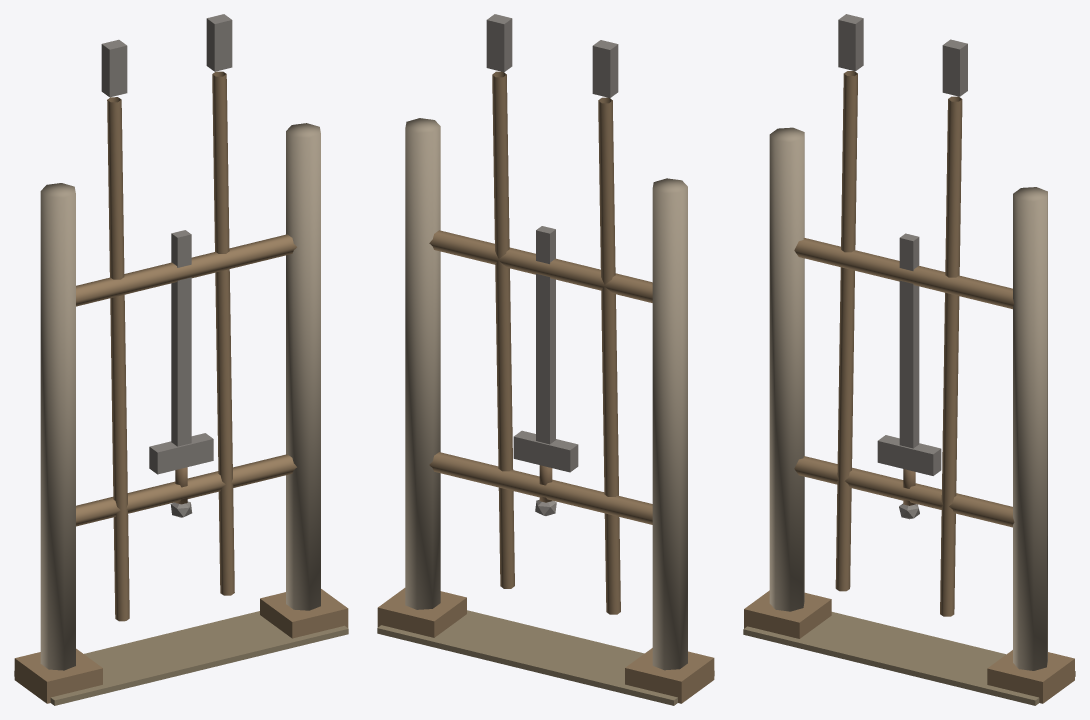
The model's file is weapon_rack.glb.
3 views of the same model, side by side, from view 1: azimuth 30°, elevation 25°; view 2: azimuth 150°, elevation 25°; view 3: azimuth 330°, elevation 25° (orthographic).
Parts seen in each view (by area): view 1: Rack_Post_0, Rack_Post_1, Rack_Mud, Spear_Shaft_0, Spear_Shaft_1, Rack_Cross_High, Sword_Blade, Rack_Cross_Low, Rack_Foot_0, Rack_Foot_1, Sword_Guard, Spear_Head_1 (+1 smaller); view 2: Rack_Post_0, Rack_Post_1, Rack_Mud, Spear_Shaft_0, Spear_Shaft_1, Rack_Cross_Low, Rack_Cross_High, Sword_Blade, Rack_Foot_0, Rack_Foot_1, Sword_Guard, Spear_Head_0 (+1 smaller); view 3: Rack_Post_0, Rack_Post_1, Rack_Mud, Spear_Shaft_0, Spear_Shaft_1, Rack_Cross_High, Sword_Blade, Rack_Cross_Low, Rack_Foot_1, Rack_Foot_0, Sword_Guard, Spear_Head_0 (+1 smaller).
Part boxes in pixels (x1,y1,x2,y2): Rack_Post_0: (40, 183, 75, 670); Rack_Post_1: (286, 123, 320, 610); Rack_Mud: (14, 611, 348, 705); Spear_Shaft_0: (107, 97, 129, 621); Spear_Shaft_1: (212, 71, 234, 595); Rack_Cross_High: (76, 234, 296, 306); Sword_Blade: (171, 230, 191, 446); Rack_Cross_Low: (76, 454, 296, 526); Rack_Foot_0: (14, 648, 102, 703); Rack_Foot_1: (260, 589, 348, 638); Sword_Guard: (149, 433, 213, 474); Spear_Head_1: (206, 14, 232, 71); Rack_Post_0: (652, 178, 687, 670); Rack_Post_1: (405, 118, 440, 609); Rack_Mud: (377, 610, 714, 705); Spear_Shaft_0: (598, 97, 620, 614); Spear_Shaft_1: (492, 71, 514, 588); Rack_Cross_Low: (429, 452, 652, 524); Rack_Cross_High: (429, 230, 652, 302); Sword_Blade: (536, 226, 555, 444); Rack_Foot_0: (625, 648, 714, 703); Rack_Foot_1: (377, 588, 466, 637); Sword_Guard: (513, 430, 578, 472); Spear_Head_0: (592, 40, 618, 97); Rack_Post_0: (769, 127, 804, 611); Rack_Post_1: (1013, 187, 1047, 670); Rack_Mud: (743, 612, 1075, 705); Spear_Shaft_0: (835, 71, 857, 591); Spear_Shaft_1: (940, 96, 962, 616); Rack_Cross_High: (794, 237, 1014, 309); Sword_Blade: (899, 233, 919, 448); Rack_Cross_Low: (794, 456, 1014, 527); Rack_Foot_1: (987, 650, 1074, 703); Rack_Foot_0: (744, 590, 831, 638); Sword_Guard: (877, 435, 941, 475); Spear_Head_0: (838, 14, 863, 71).
Size of the model in its own units: 0.86 by 1.7 by 0.2.
